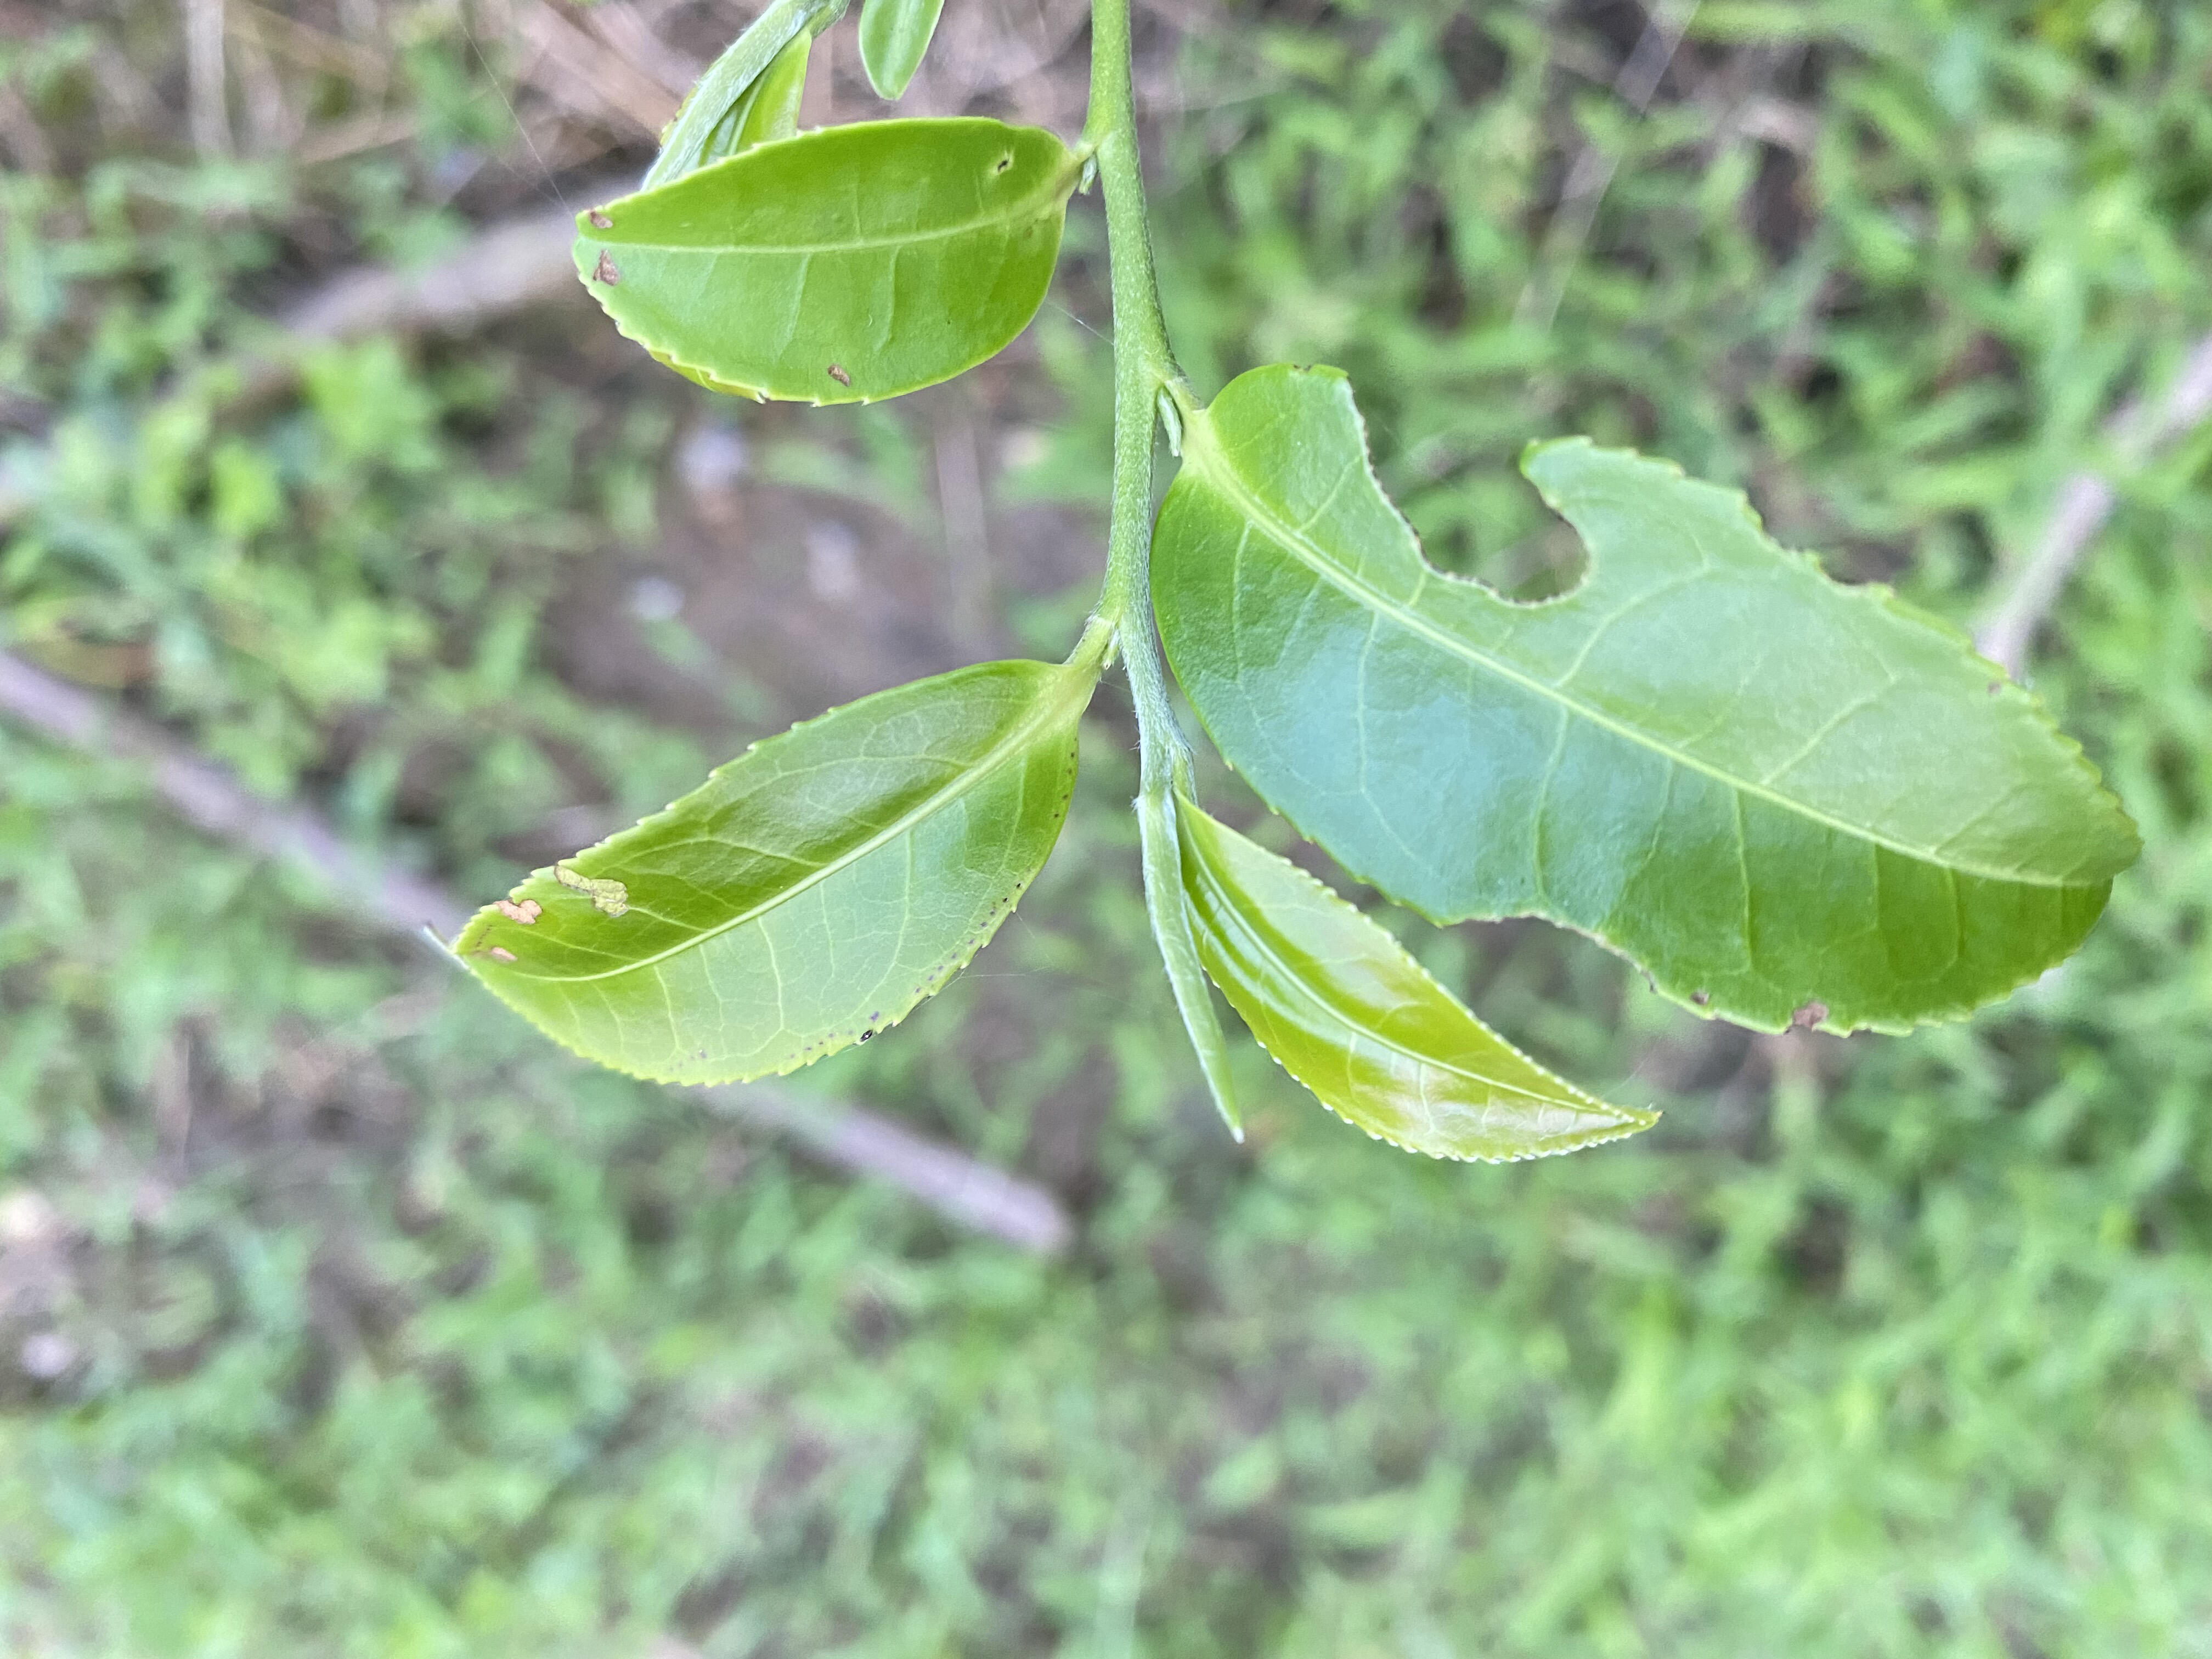chihuo_high: (1151, 361, 2141, 1033)
healthy: (1172, 795, 1665, 1166)
tanju_low: (446, 659, 1094, 1086), (571, 117, 1071, 410)
